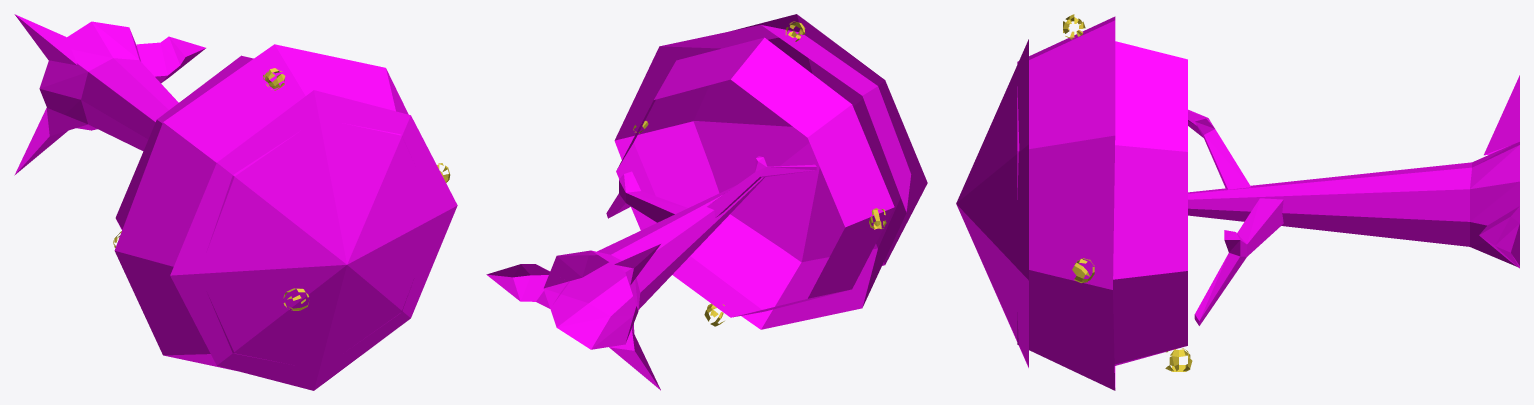
Rendered from 4_mature_partial.obj.
3 renders of one model, left to right at view 1: azimuth 30°, elevation 25°; view 2: azimuth 150°, elevation 25°; view 3: azimuth 270°, elevation 25°, orthographic. The views are drawn at different scales.
Parts seen in each view (by area): view 1: lemon_4_partial; view 2: lemon_4_partial; view 3: lemon_4_partial.
Part boxes in pixels (x1,y1,x2,y2): lemon_4_partial: [14, 14, 457, 390]; lemon_4_partial: [486, 14, 927, 390]; lemon_4_partial: [956, 14, 1519, 390].
Size of the model in its own units: 1.79 by 1.78 by 2.48.
